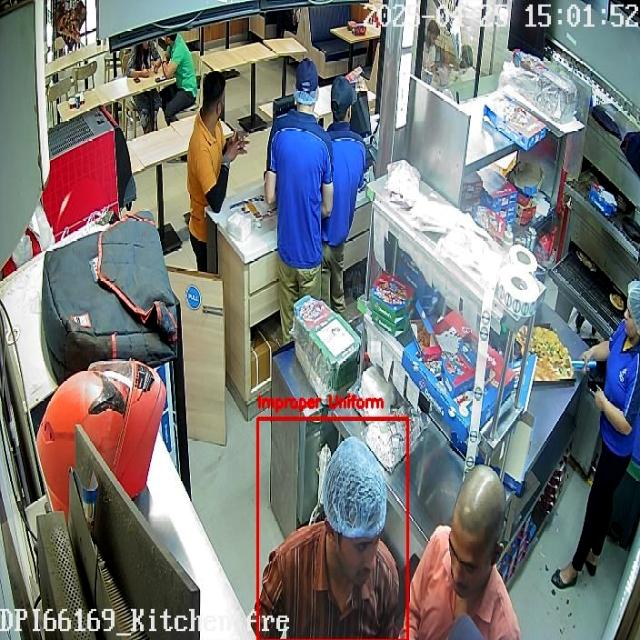helmet: (37, 357, 166, 515)
no_helmet: (323, 435, 386, 590), (447, 464, 505, 600), (202, 70, 225, 135), (294, 57, 318, 114), (331, 74, 358, 122)
